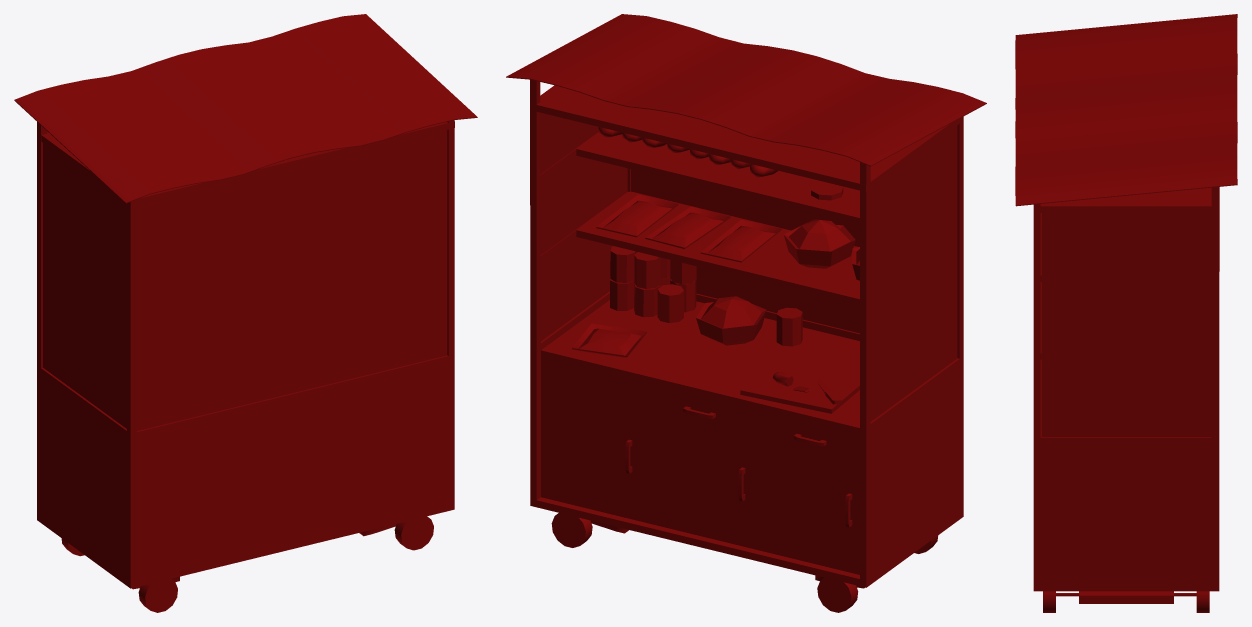
3 views of the same model, side by side, from view 1: azimuth 30°, elevation 25°; view 2: azimuth 150°, elevation 25°; view 3: azimuth 270°, elevation 25° (orthographic). The views are drawn at different scales.
Parts seen in each view (by area): view 1: g export pPlane6, g pCube2 export, g export pCube16, g export pCube4, g export pCube1, g export pCylinder60, g export pCylinder57; view 2: g export pPlane6, g export pCube16, g export pCube4, g export pCube3, g export pCube1, g pCube2 export, g export polySurface6, g export polySurface5, g export pCube32, g export pSphere2, g export pSphere3, g export pCube35 (+11 smaller); view 3: g export pCube16, g export pCube3, g export pPlane6, g export pCube1, g export pCube31.
Boxes of the visible parts, <box> form: g export pPlane6: <box>37,120,454,588</box>; g pCube2 export: <box>137,130,447,430</box>; g export pCube16: <box>14,14,477,203</box>; g export pCube4: <box>43,143,126,428</box>; g export pCube1: <box>41,121,454,206</box>; g export pCylinder60: <box>138,579,177,612</box>; g export pCylinder57: <box>394,516,433,550</box>; g export pPlane6: <box>530,79,963,587</box>; g export pCube16: <box>506,14,986,166</box>; g export pCube4: <box>870,125,957,421</box>; g export pCube3: <box>540,112,627,340</box>; g export pCube1: <box>534,85,959,191</box>; g pCube2 export: <box>631,169,859,333</box>; g export polySurface6: <box>540,191,859,305</box>; g export polySurface5: <box>540,132,859,224</box>; g export pCube32: <box>740,363,859,413</box>; g export pSphere2: <box>783,219,855,268</box>; g export pSphere3: <box>696,296,766,345</box>; g export pCube35: <box>645,206,730,249</box>; g export pCube16: <box>1015,14,1237,206</box>; g export pCube3: <box>1041,213,1211,436</box>; g export pPlane6: <box>1033,187,1219,591</box>; g export pCube1: <box>1033,187,1219,212</box>; g export pCube31: <box>1079,591,1173,603</box>.
Bounding box in the file's own units: 1.61 × 2 × 0.8874.
